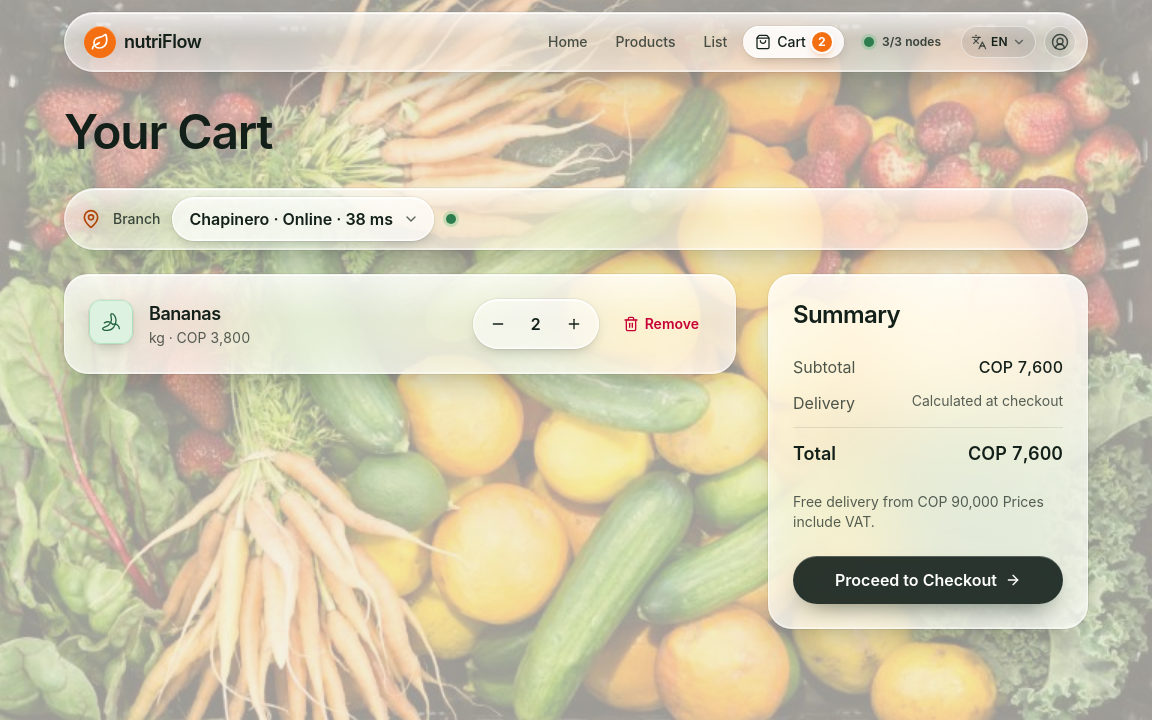
Language picker › switches to Spanish with Colombian pesos and remembers the choice
The image size is (1152, 720).
Click the dropdown named "Language" at [998, 42], box [961,26,1036,58]
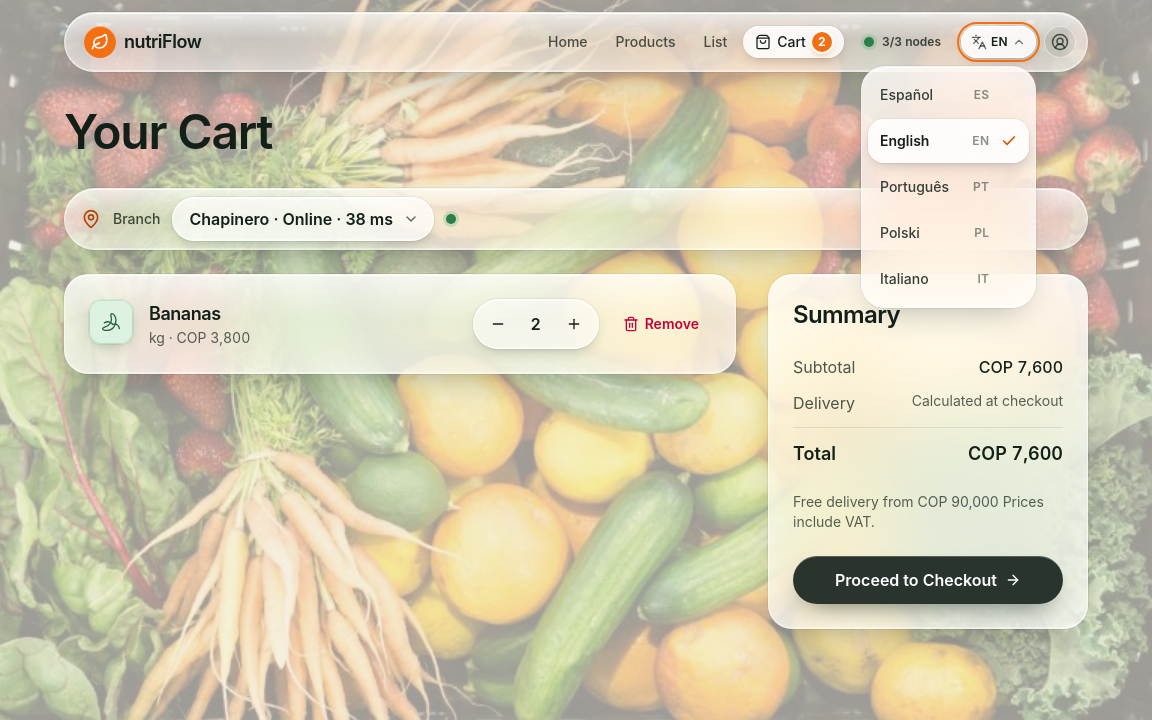
Click the option "Español es" at [935, 94], box [880,86,989,103]
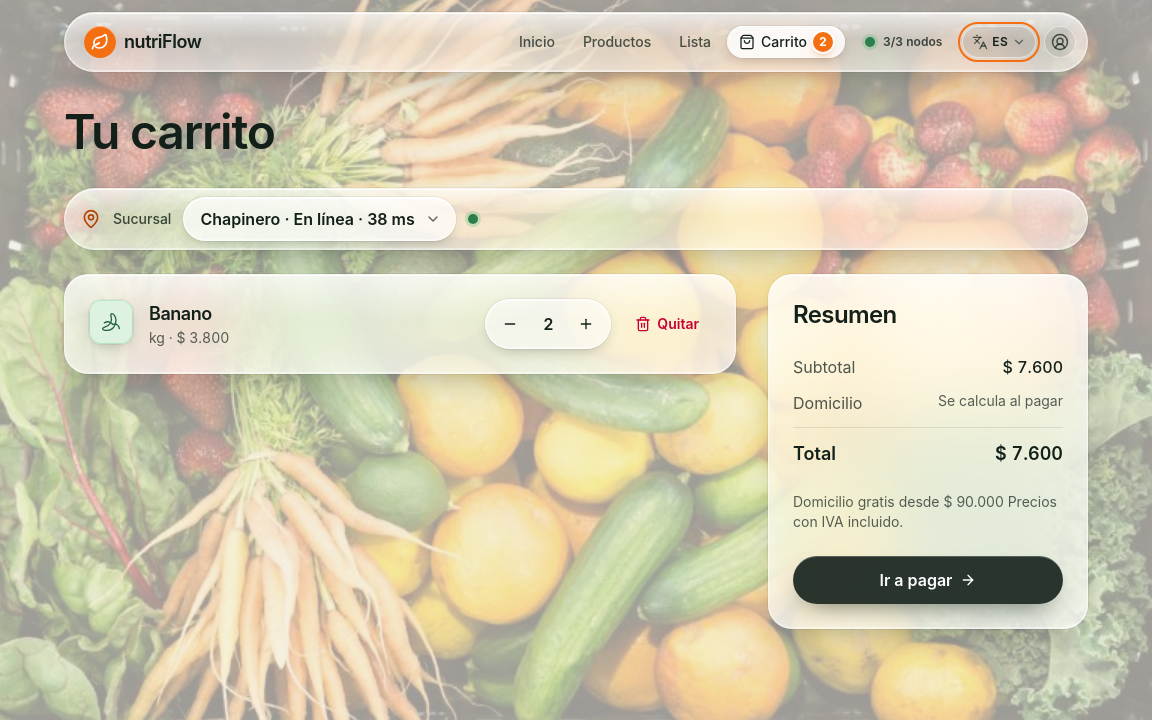
Check: the heading "Tu carrito" is shown, box [64,102,275,161]
Check: the link named "Carrito, 2 artículos" is shown, box [727,26,845,58]
Check: the text with test id "cart-total" reads "$ 7.600", box [995,443,1063,464]
